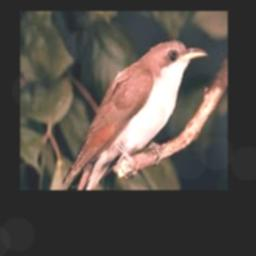Cuckoo: (62, 40, 208, 185)
